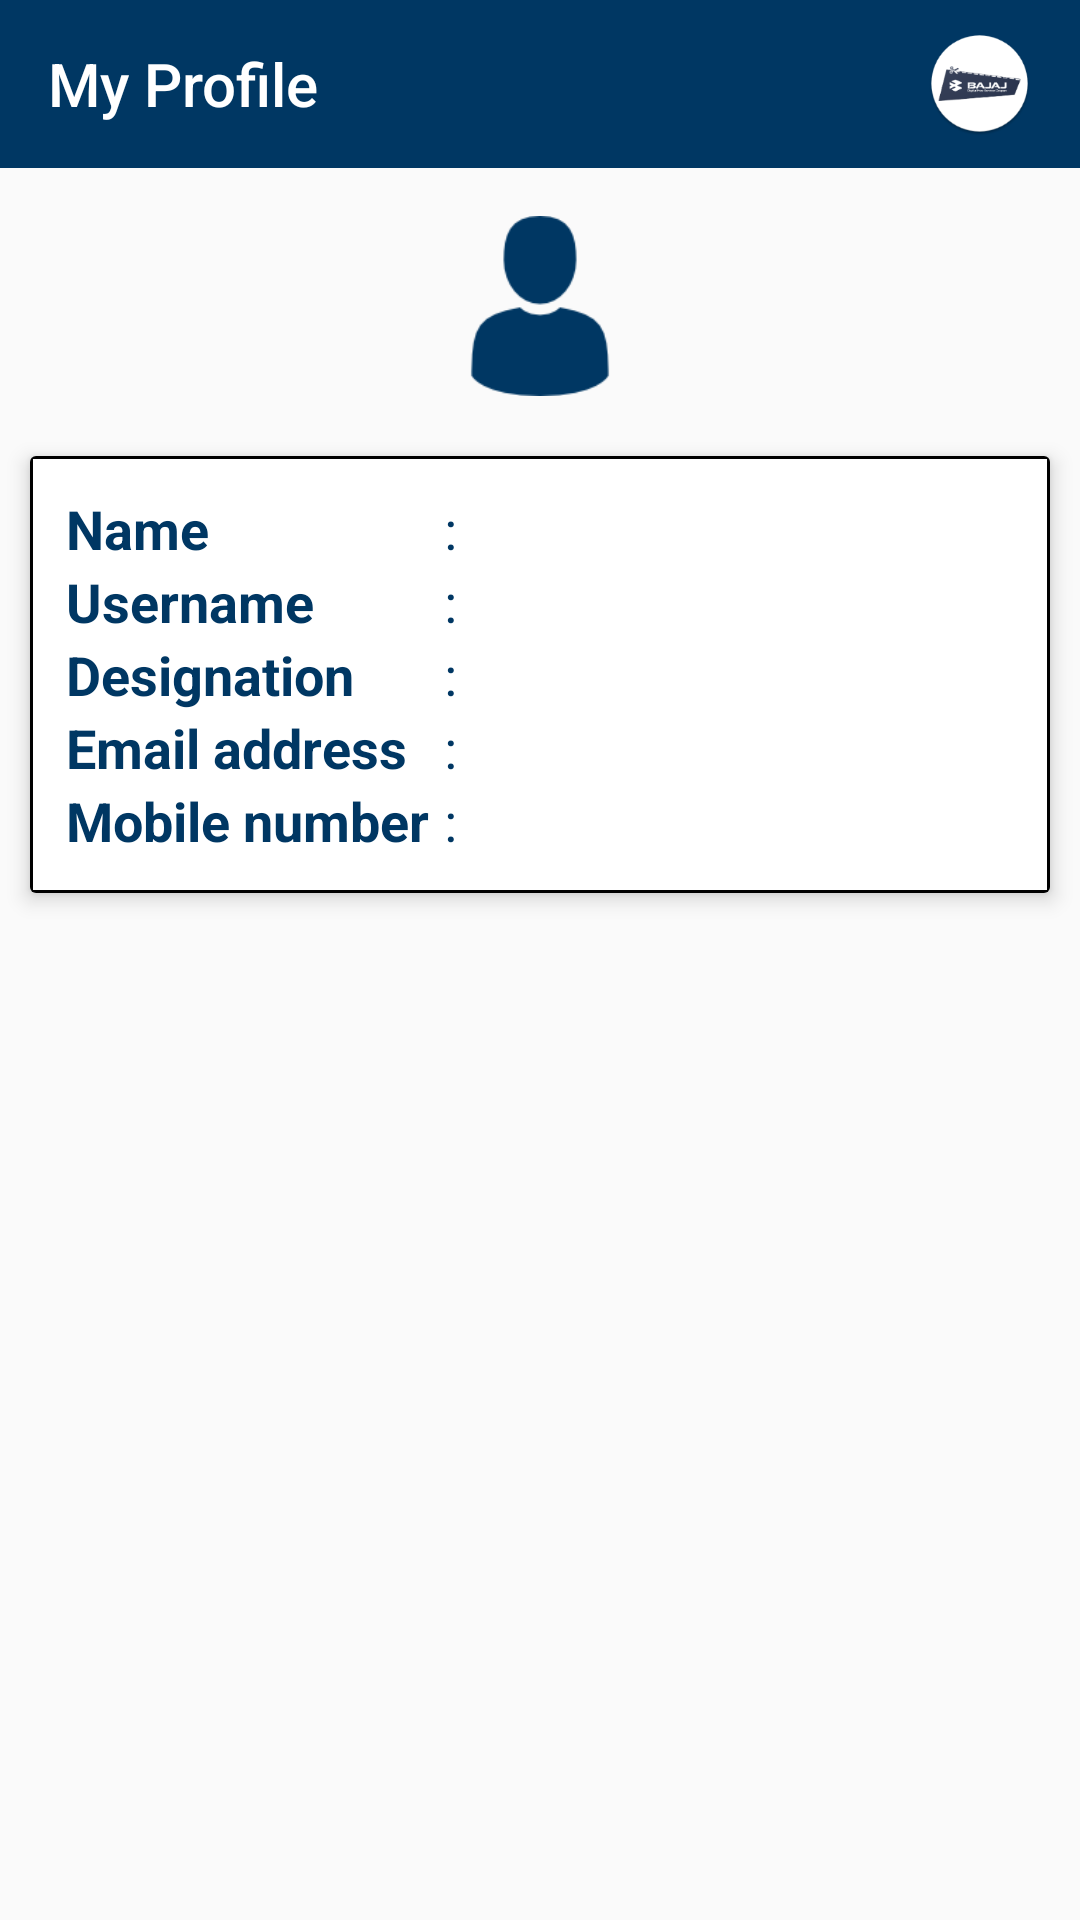

Where to tap for icons on this 1080×1920 app screen, as point (x, y):
male: point (540, 306)
